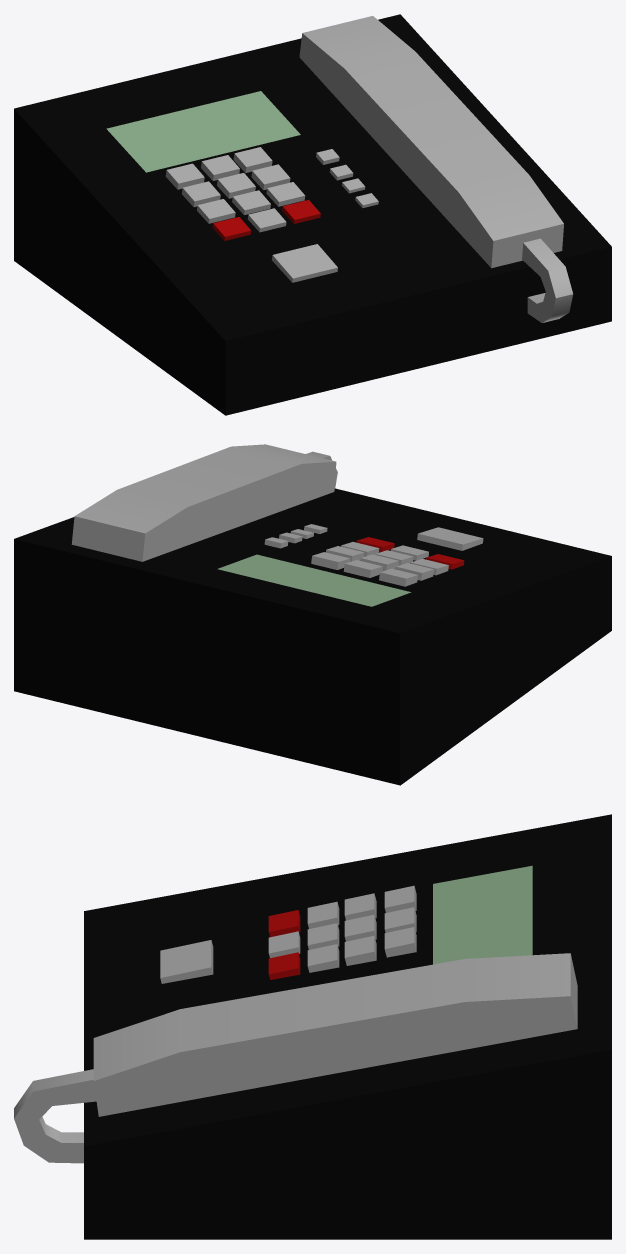
File: Phone.fbx
3 views of the same model, one above another, from view 1: azimuth 30°, elevation 25°; view 2: azimuth 150°, elevation 25°; view 3: azimuth 270°, elevation 25° (orthographic). The views are drawn at different scales.
Visible parts, largest first — view 1: telephone; view 2: telephone; view 3: telephone.
Part boxes in pixels (x1,y1,x2,y2): telephone: [14, 14, 611, 415]; telephone: [14, 444, 611, 785]; telephone: [14, 814, 611, 1239].
Size of the model in its own units: 0.2216 by 0.0951 by 0.238.
